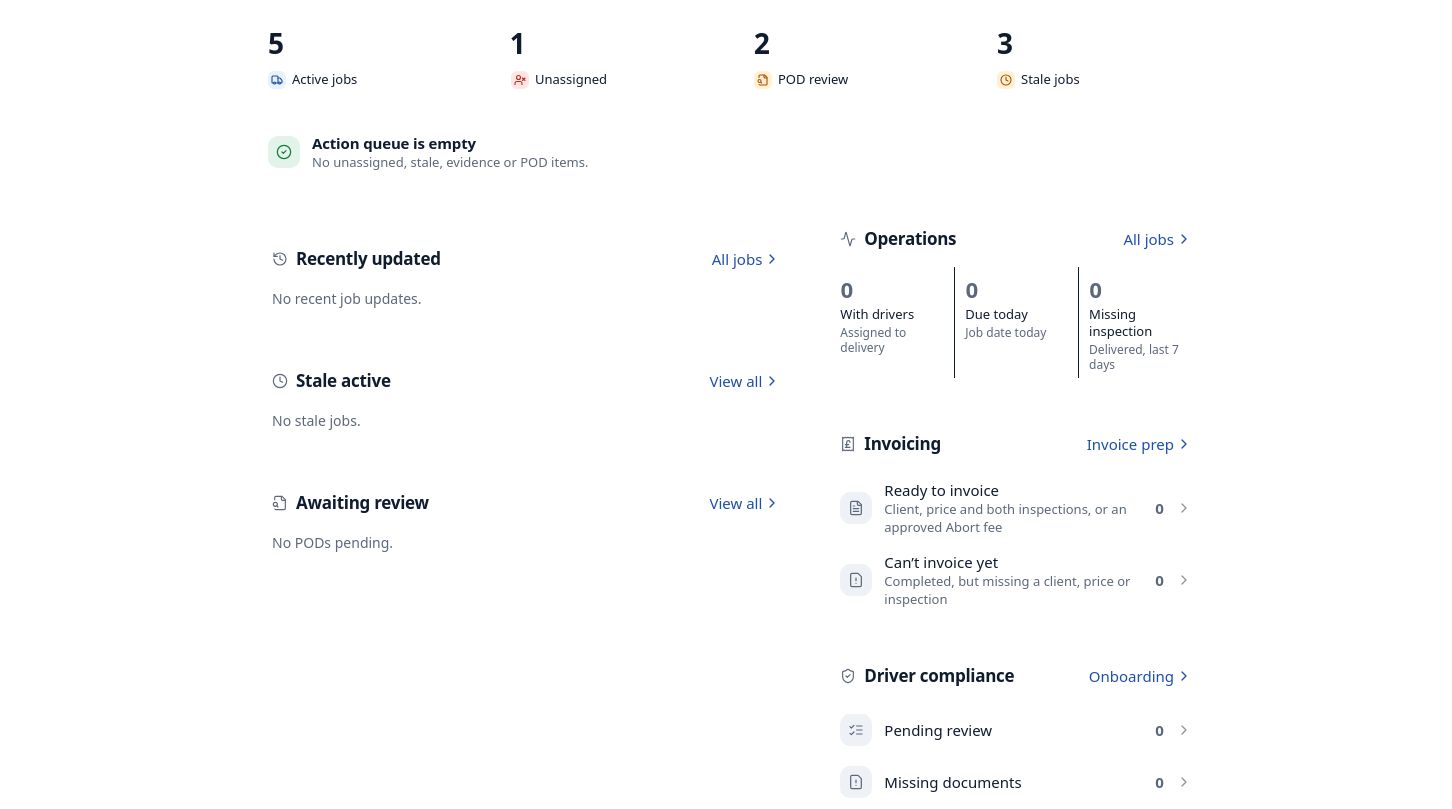
Admin Home UI › keeps the intervention destinations
Step 1. Click the button with aria-label "POD review: 2" → point(854, 56), box x1=738 y1=12 x2=969 y2=101
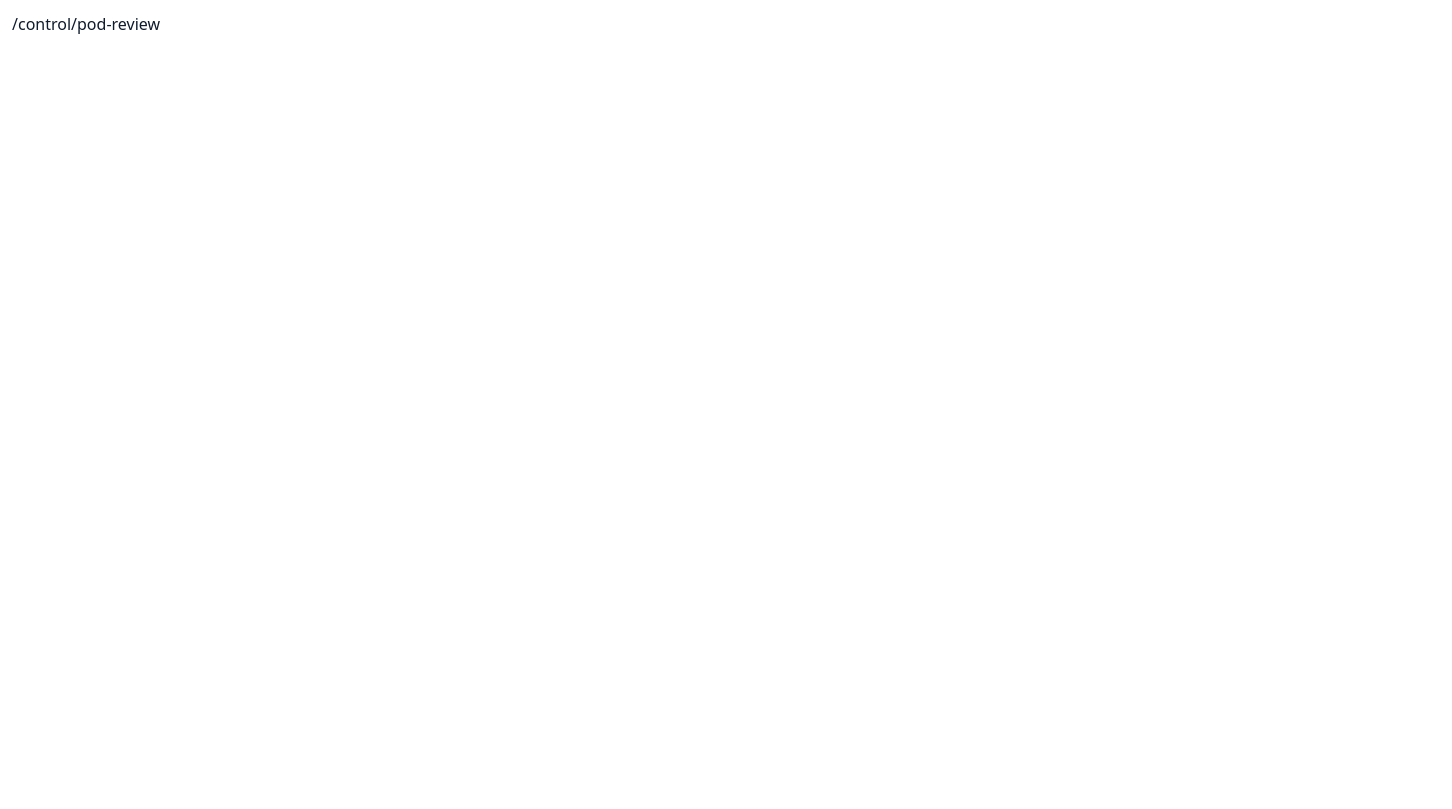
Result: the text with test id "landed" reads "/control/pod-review" at x1=12 y1=13 x2=160 y2=35
